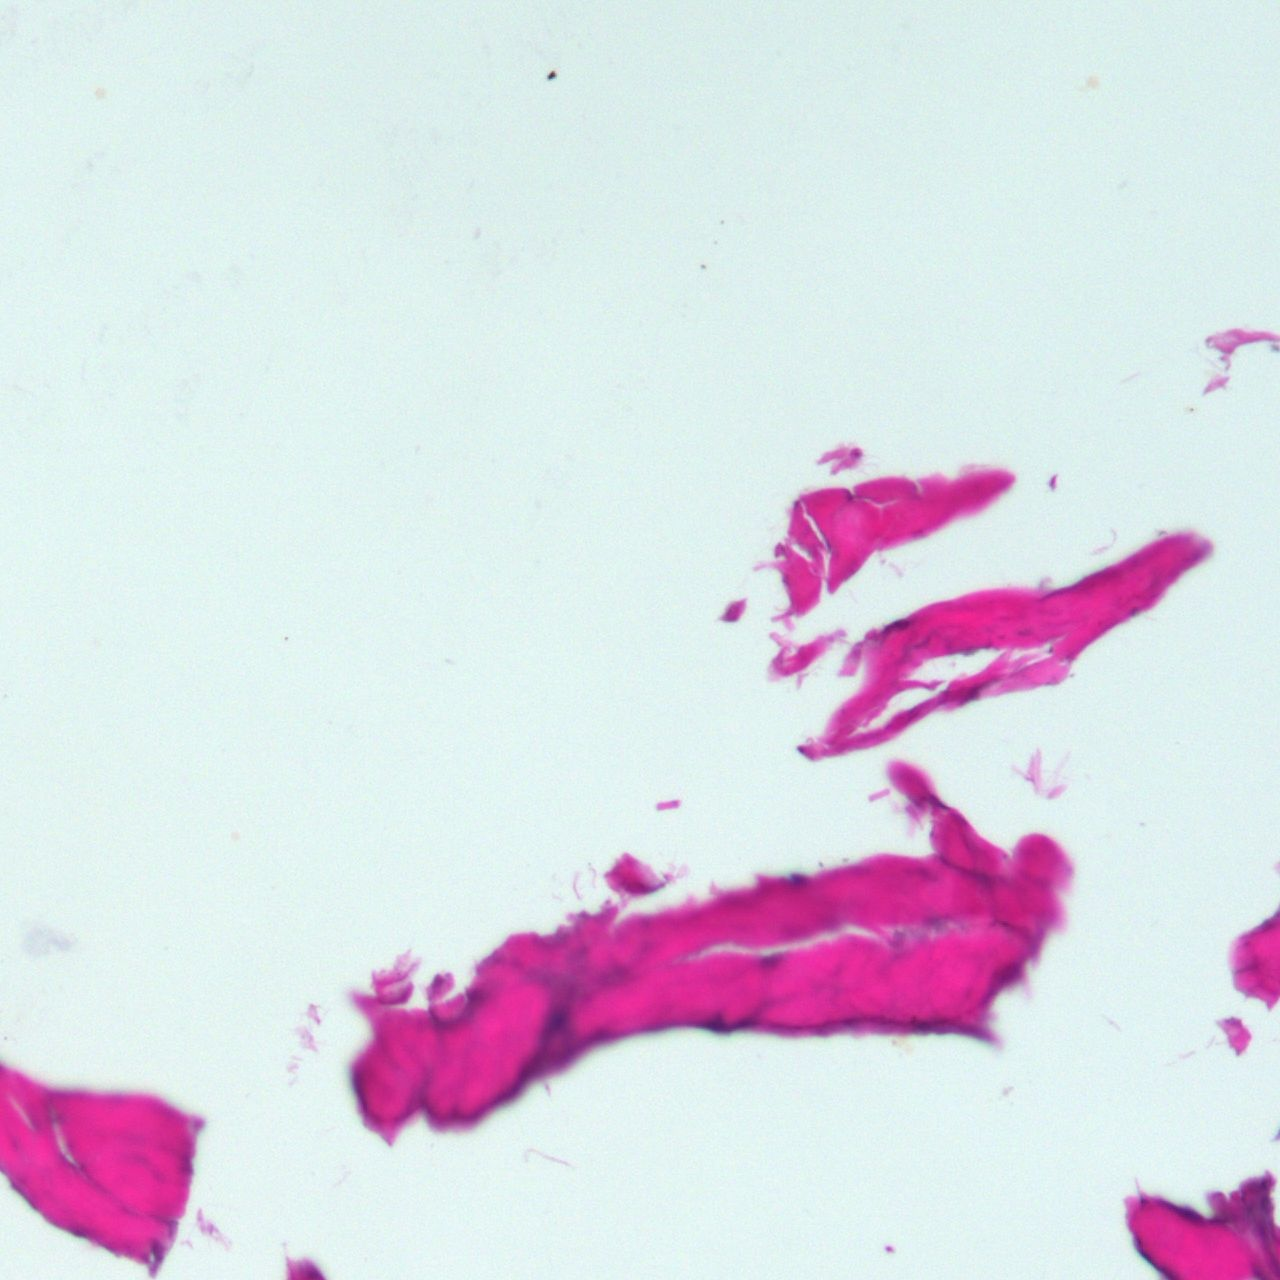dust: (545, 68, 558, 81), (1087, 74, 1099, 87), (95, 87, 103, 95), (700, 264, 704, 268)
nucleus-HE: (546, 1007, 568, 1033)
